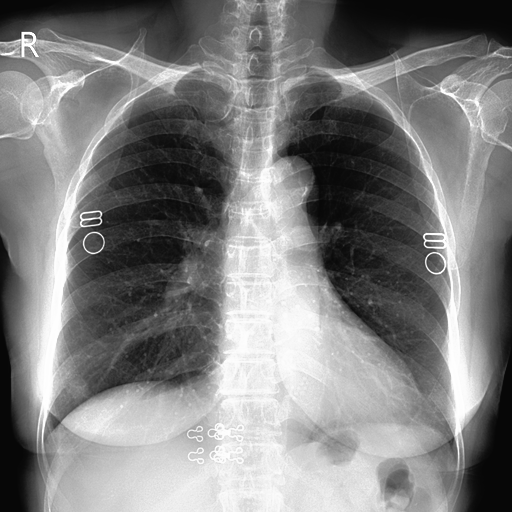Consolidation: (254, 151, 318, 214)
Nodule/Mass: (216, 328, 424, 429)
Pleural thickening: (64, 375, 89, 400)
Pulmonary fibrosis: (62, 381, 86, 403)
